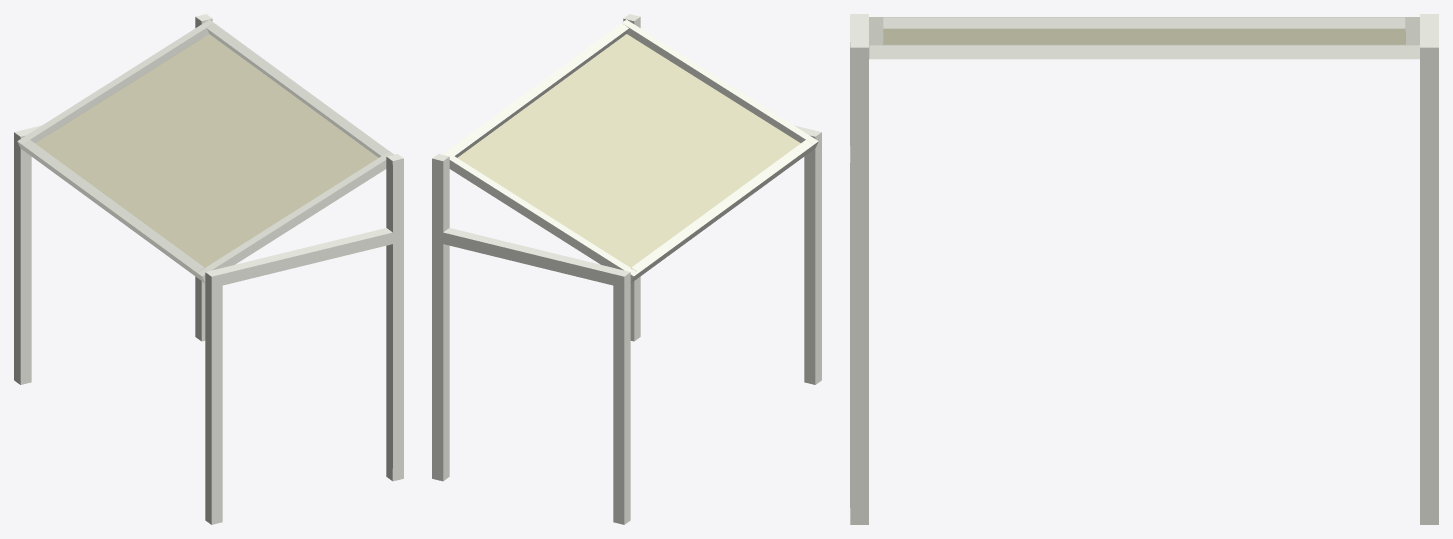
The model's file is RWAL_op10.dae.
The picture shows the model from 3 angles, left to right: view 1: azimuth 30°, elevation 25°; view 2: azimuth 150°, elevation 25°; view 3: azimuth 270°, elevation 25°; orthographic projection. The views are drawn at different scales.
Visible parts, largest first — view 1: RWAL_op10; view 2: RWAL_op10; view 3: RWAL_op10.
Part boxes in pixels (x1,y1,x2,y2): RWAL_op10: [14, 14, 403, 524]; RWAL_op10: [432, 14, 821, 524]; RWAL_op10: [850, 14, 1438, 524].
Size of the model in its own units: 0.7088 by 1.24 by 1.11.
Materials: 2 (2 with a texture image).
